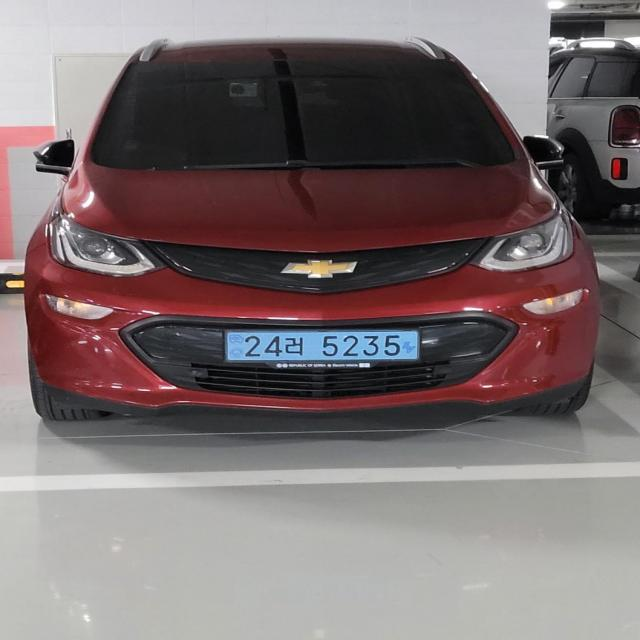EV_plate: (222, 322, 426, 370)
car: (23, 32, 607, 432)
